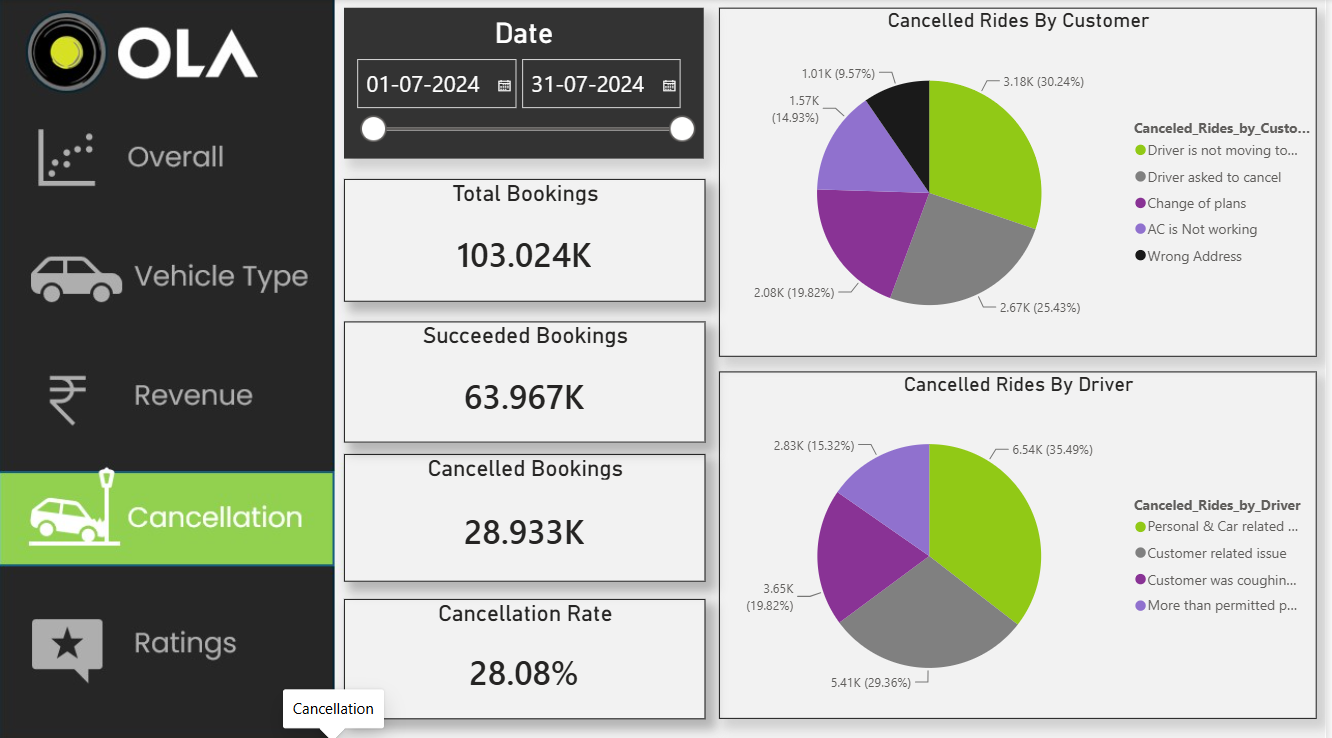

The page's visual inventory and layout, read from the dashboard file:
{"tool":"powerbi","page":{"name":"Cancellation","canvas":[1280,720],"ordinal":3},"visuals":[{"type":"actionButton","box":[0,219.6,323.3,91.7],"z":0},{"type":"actionButton","box":[0,336.6,323.3,91.7],"z":1000},{"type":"actionButton","box":[0,454.8,323.3,91.7],"z":2000},{"type":"actionButton","box":[0,579.1,323.3,91.7],"z":3000},{"type":"actionButton","box":[0,108.6,323.3,91.7],"z":4000},{"type":"pieChart","title":"Cancelled Rides By Customer","fields":{"Category":["July.Canceled_Rides_by_Customer"],"Y":["CountNonNull(July.Canceled_Rides_by_Customer)"]},"box":[694.9,8.4,576.7,336.6],"z":5000},{"type":"pieChart","title":"Cancelled Rides By Driver","fields":{"Category":["July.Canceled_Rides_by_Driver"],"Y":["CountNonNull(July.Canceled_Rides_by_Driver)"]},"box":[694.9,359.5,576.7,335.4],"z":6000},{"type":"slicer","title":"Date","fields":{"Values":["July.Date"]},"box":[333,8.4,347.5,146],"z":7000},{"type":"cardVisual","title":"Total Bookings","fields":{"Data":["Count(July.Booking_ID)"]},"box":[333,173.7,348.7,118.2],"z":8000},{"type":"cardVisual","title":"Succeeded Bookings","fields":{"Data":["Count(July.Booking_ID)"]},"box":[333,311.3,348.7,117],"z":9000},{"type":"cardVisual","title":"Cancelled Bookings","fields":{"Data":["Count(July.Booking_ID)"]},"box":[333,439.1,348.7,123.1],"z":10000},{"type":"cardVisual","title":"Cancellation Rate","fields":{"Data":["July.CanceledPercentage"]},"box":[333,579.1,348.7,115.8],"z":11000}]}

Visuals, with their boxes in screenshot pixels (x1, y1, x2, y2), scaled from the page's 1280x720 canvas onto the 1332x738 screenshot:
actionButton: l=0, t=225, r=336, b=319
actionButton: l=0, t=345, r=336, b=439
actionButton: l=0, t=466, r=336, b=560
actionButton: l=0, t=594, r=336, b=688
actionButton: l=0, t=111, r=336, b=205
"Cancelled Rides By Customer" pieChart: l=723, t=9, r=1323, b=354
"Cancelled Rides By Driver" pieChart: l=723, t=368, r=1323, b=712
"Date" slicer: l=347, t=9, r=708, b=158
"Total Bookings" cardVisual: l=347, t=178, r=709, b=299
"Succeeded Bookings" cardVisual: l=347, t=319, r=709, b=439
"Cancelled Bookings" cardVisual: l=347, t=450, r=709, b=576
"Cancellation Rate" cardVisual: l=347, t=594, r=709, b=712
